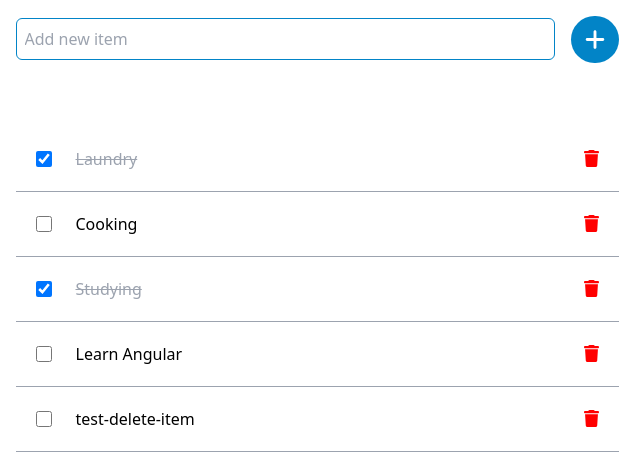
it: Delete todo item › should delete the item
Step 1. Click the button without text in the row of "test-delete-item" → (592, 419), box left=584, top=410, right=599, bottom=427
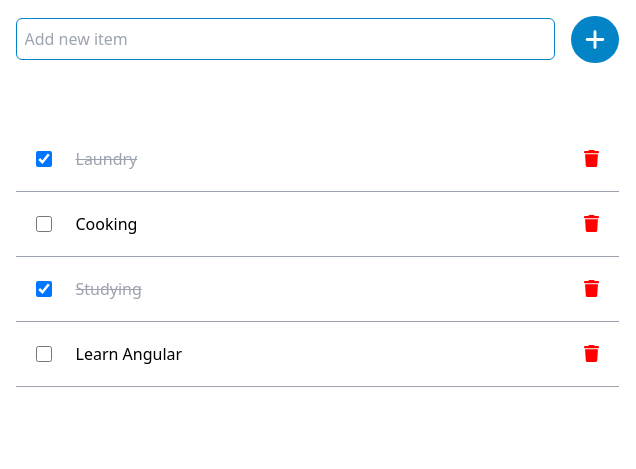
Expected: the text "test-delete-item" is gone
